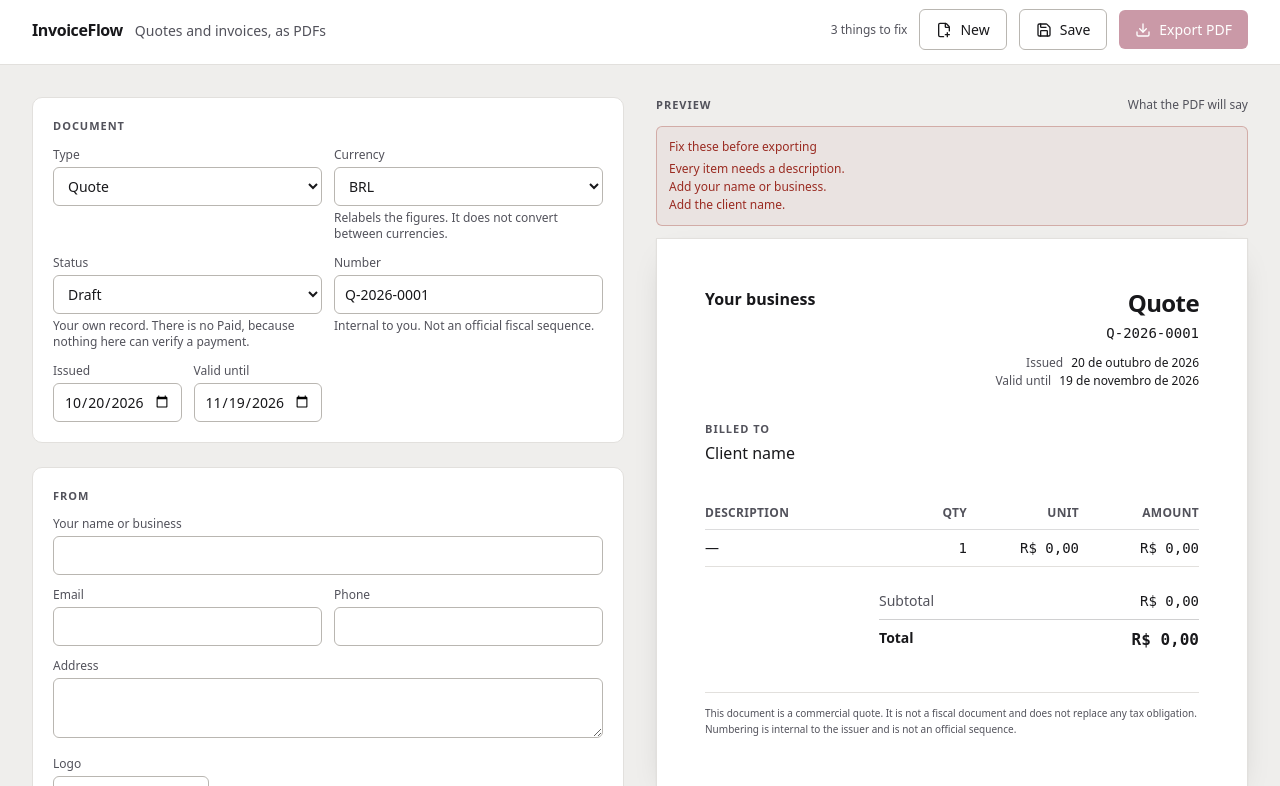
Test case: the editor › enables export once the required fields are filled
Type "Estudio Acai" into the field labelled "Your name or business".
click(328, 556); type("Estudio Acai")  # box [53,536,603,575]
(page scrolled)
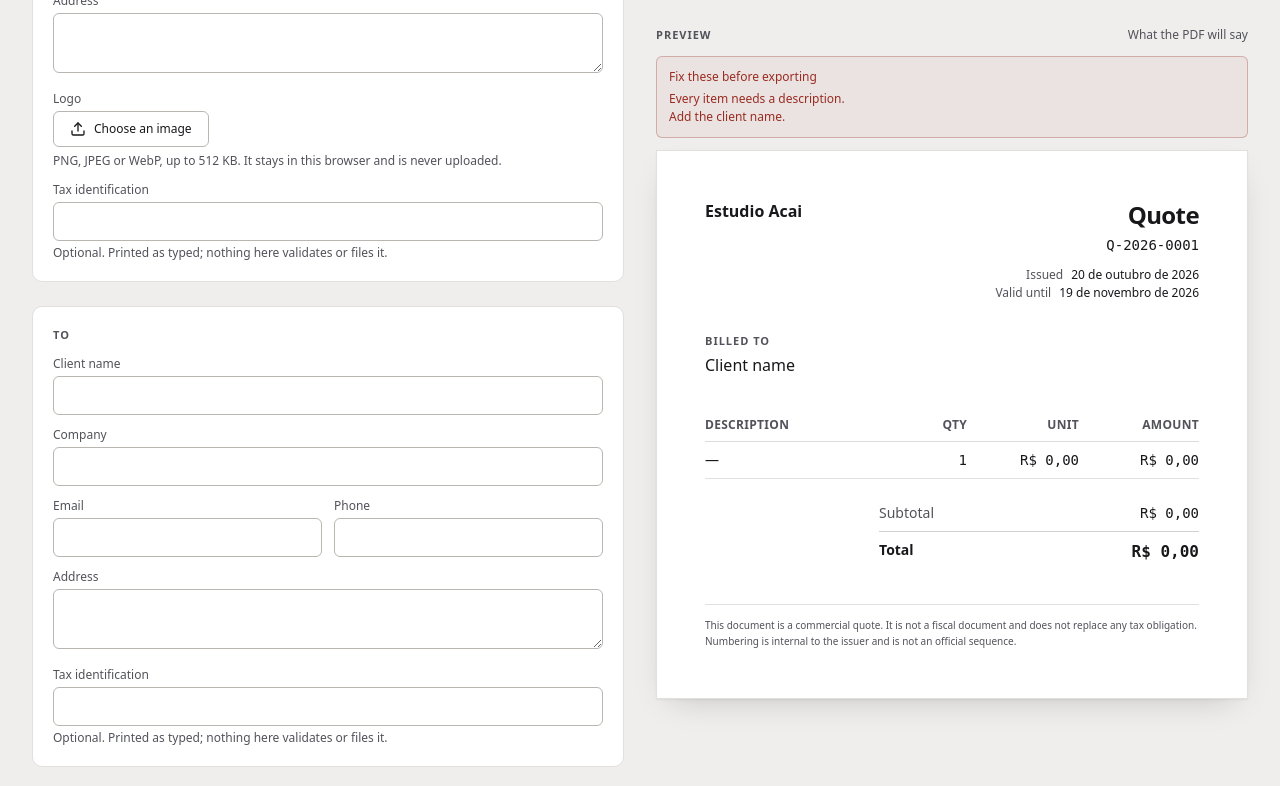
Type "Cliente Um" into the field labelled "Client name".
click(328, 395); type("Cliente Um")  # box [53,376,603,414]
(page scrolled)
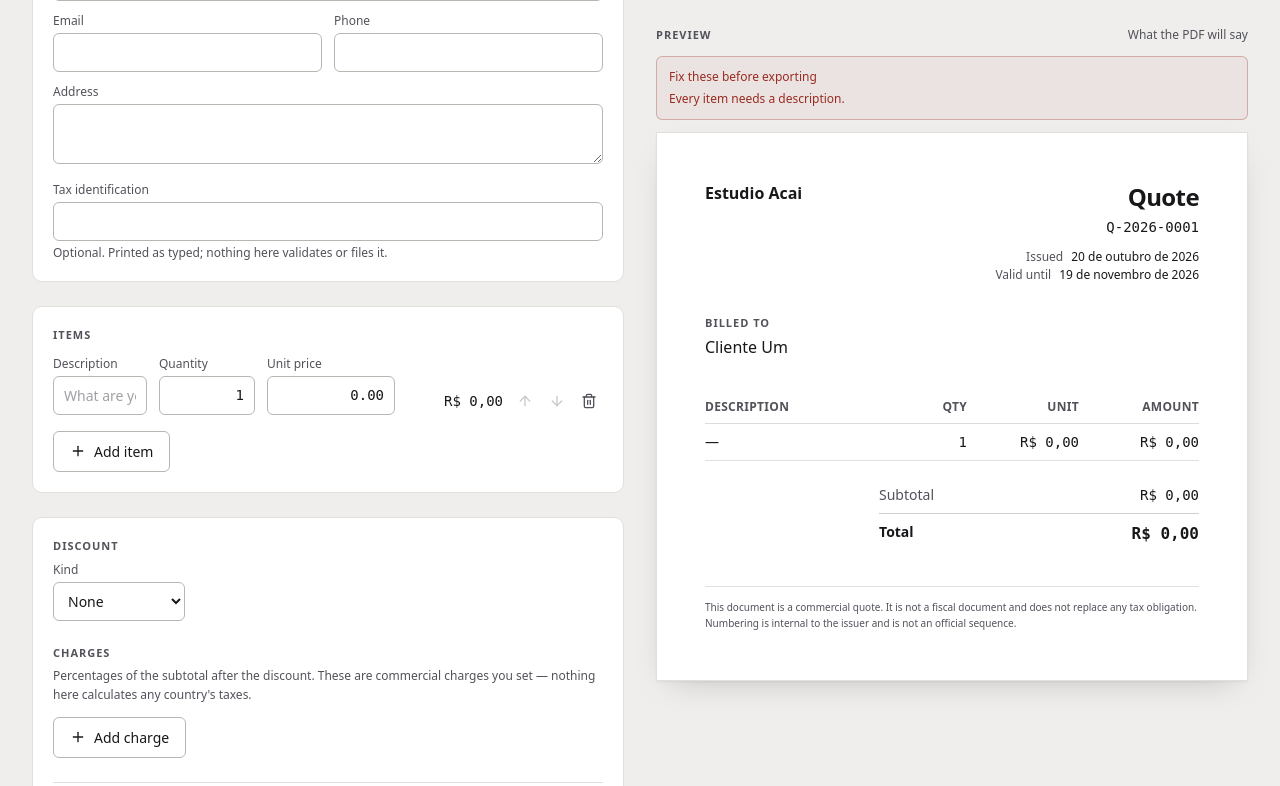
Type "Consulting" into the field labelled "Description".
click(100, 395); type("Consulting")  # box [53,376,147,414]
(page scrolled)
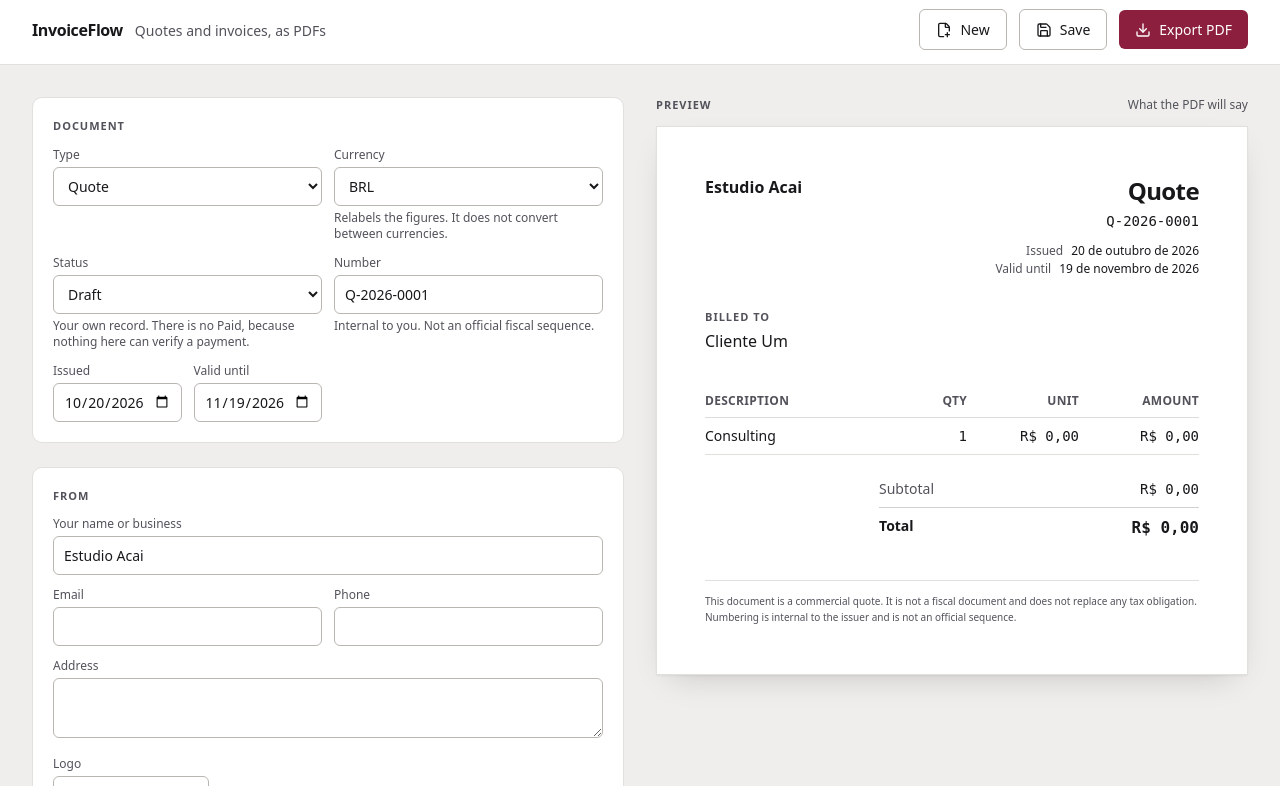
Expected: the button "Export PDF" is enabled, [1119,10,1248,49]
